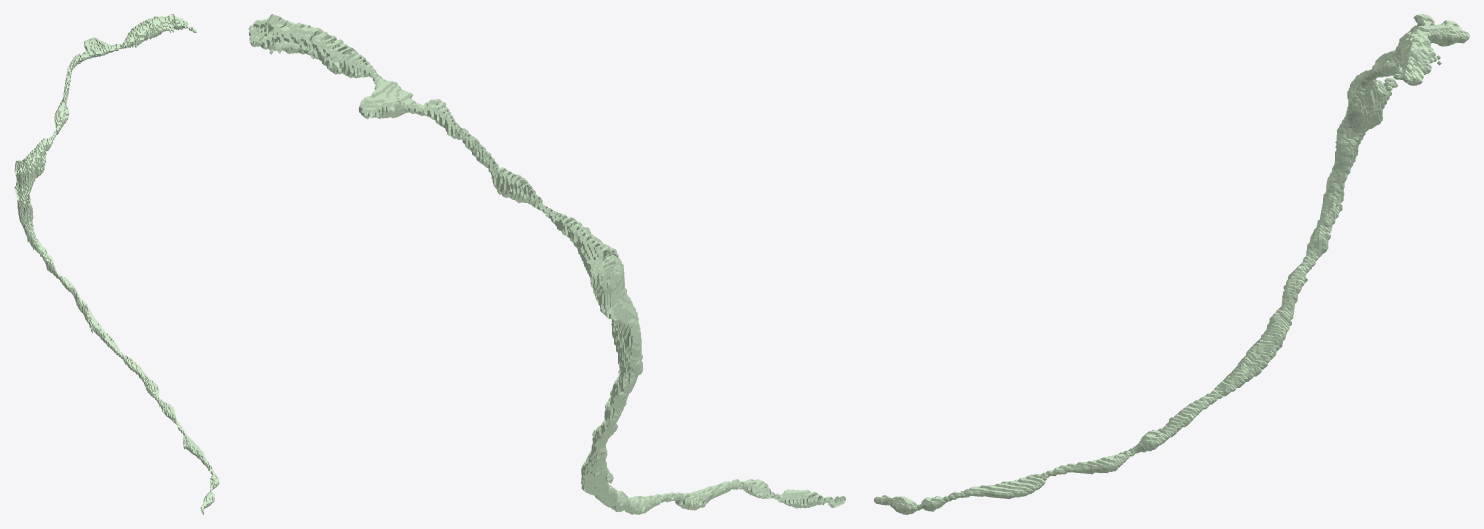
The model's file is SVV_AUAL.gltf.
3 views of the same model, side by side, from view 1: azimuth 30°, elevation 25°; view 2: azimuth 150°, elevation 25°; view 3: azimuth 270°, elevation 25° (orthographic). The views are drawn at different scales.
Visible parts, largest first — view 1: AUAL; view 2: AUAL; view 3: AUAL.
Part boxes in pixels (<box>): AUAL: <box>14,14,219,514</box>; AUAL: <box>248,14,845,514</box>; AUAL: <box>874,14,1469,514</box>.
Bounding box in the file's own units: 92919 × 161602 × 156076.
